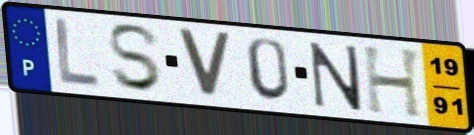0: (243, 36, 292, 104)
H: (359, 44, 426, 121)
L: (53, 15, 101, 91)
N: (307, 39, 365, 113)
S: (105, 23, 165, 95)
V: (174, 26, 235, 102)
